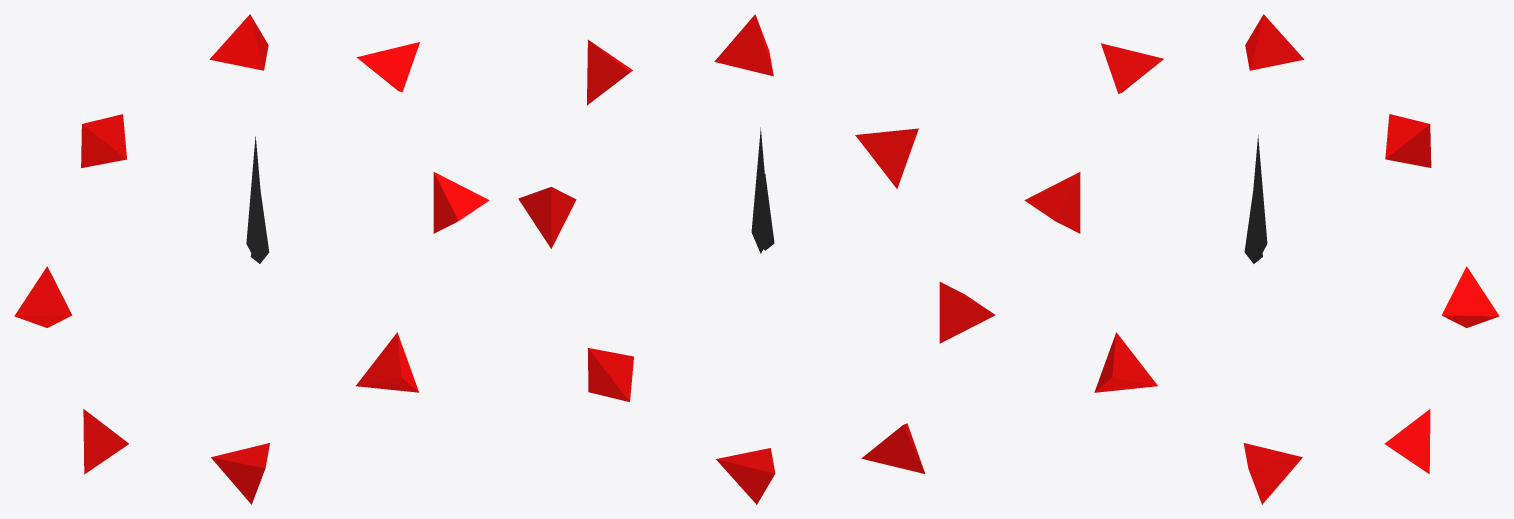
Rendered from uvmd-0229.glb.
3 renders of one model, left to right at view 1: azimuth 30°, elevation 25°; view 2: azimuth 150°, elevation 25°; view 3: azimuth 330°, elevation 25°, orthographic.
Visible parts, largest first — view 1: uvmd-0229; view 2: uvmd-0229; view 3: uvmd-0229.
Boxes of the visible parts, x1,y1,x2,y2 form: uvmd-0229: (14,14,489,504); uvmd-0229: (518,14,995,504); uvmd-0229: (1024,14,1499,504).
Bounding box in the file's own units: 2559 × 2519 × 273.
1 material, 1 textured.
